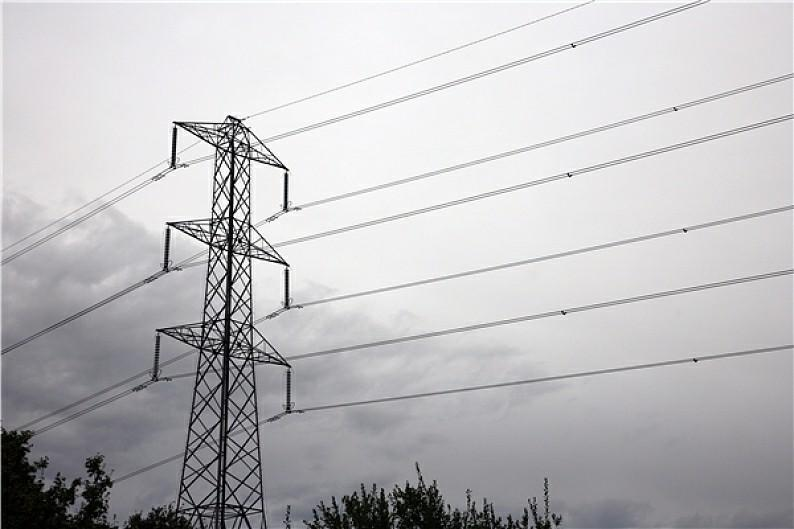power_tower: (128, 106, 302, 527)
